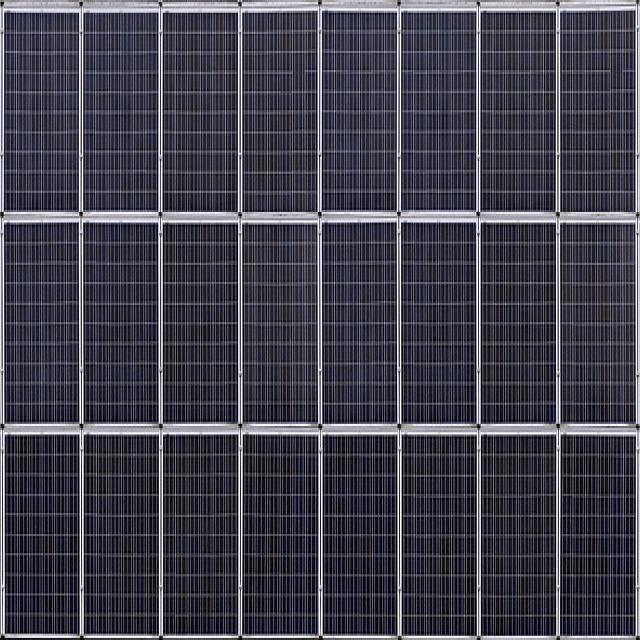clean-solar-panel: (1, 3, 640, 634)
